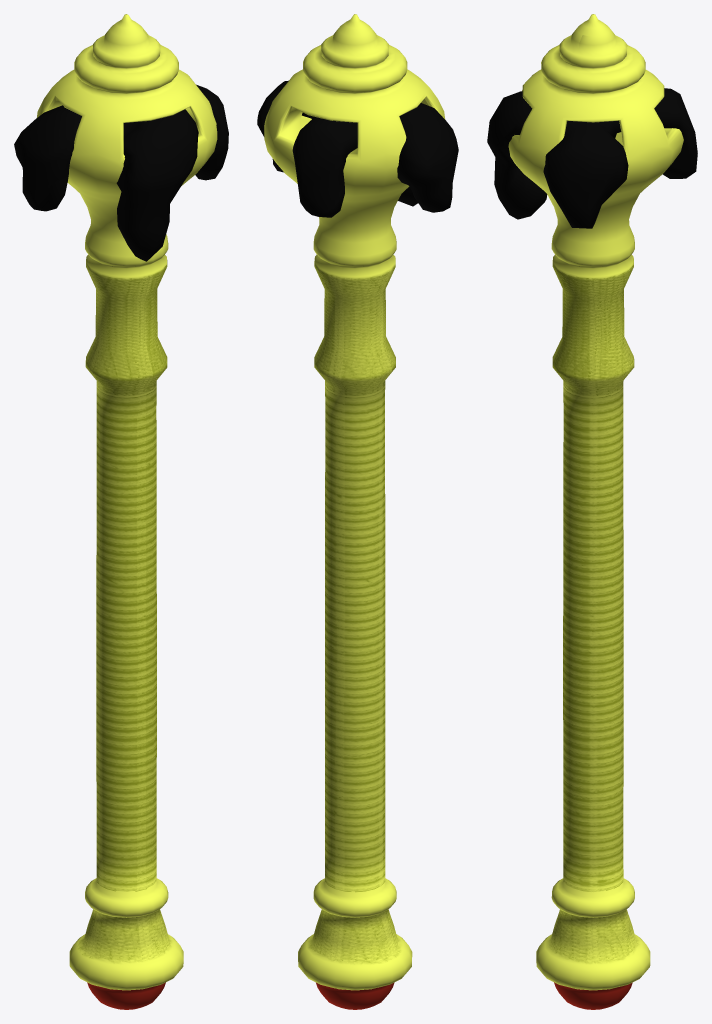
The model's file is TaroozeScepter.fbx.
The picture shows the model from 3 angles, left to right: view 1: azimuth 30°, elevation 25°; view 2: azimuth 150°, elevation 25°; view 3: azimuth 270°, elevation 25°; orthographic projection.
Visible parts, largest first — view 1: TarOozeScepter; view 2: TarOozeScepter; view 3: TarOozeScepter.
Boxes of the visible parts, <box> form: TarOozeScepter: <box>14,14,228,1009</box>; TarOozeScepter: <box>257,14,458,1009</box>; TarOozeScepter: <box>487,14,697,1009</box>.
Size of the model in its own units: 0.7587 by 3.76 by 0.7266.
1 material, 1 textured.
